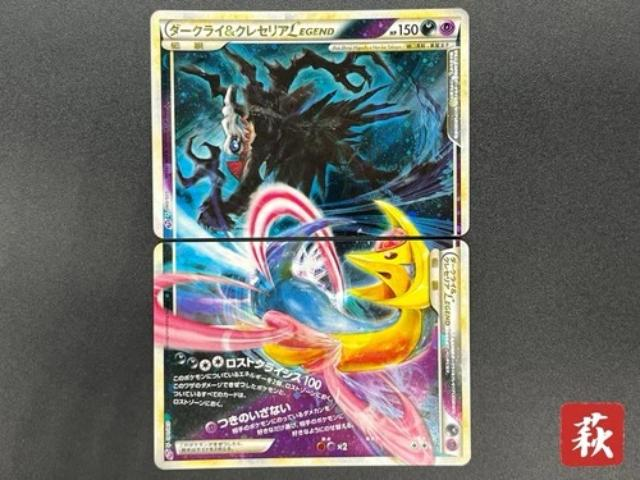Card: (147, 5, 473, 241), (150, 237, 473, 473)
Name: (165, 19, 339, 41), (440, 253, 461, 331)
